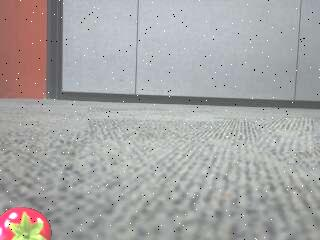Tomato: (1, 206, 54, 240)
